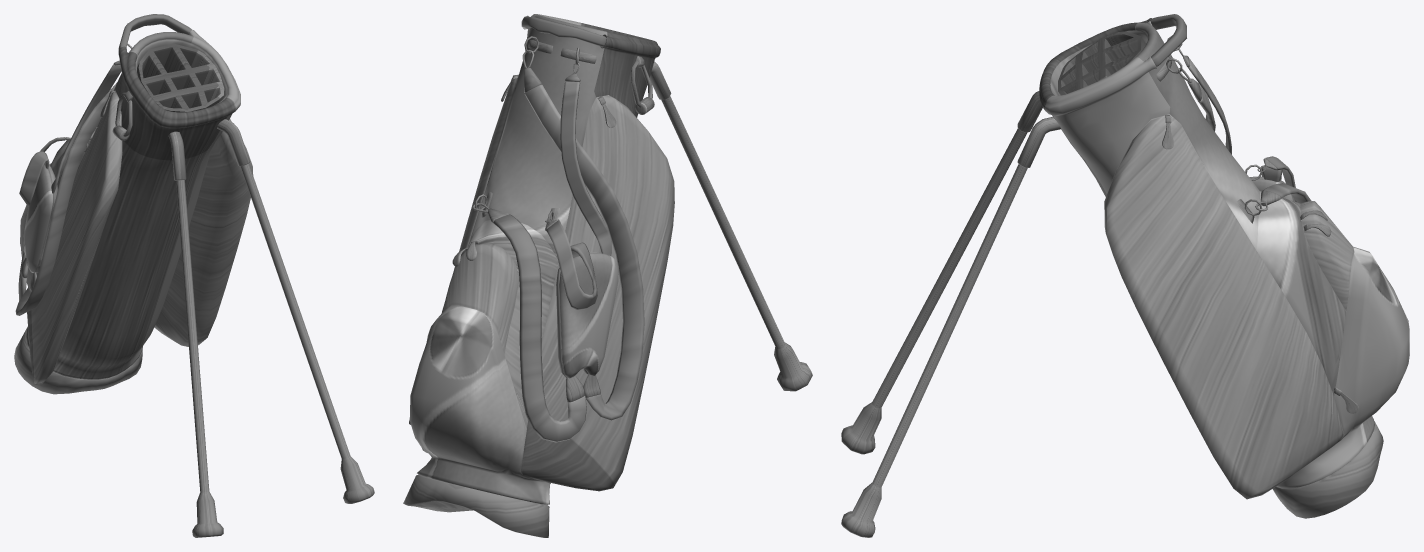
The model's file is bag.FBX.
The picture shows the model from 3 angles, left to right: view 1: azimuth 30°, elevation 25°; view 2: azimuth 150°, elevation 25°; view 3: azimuth 270°, elevation 25°; orthographic projection. The views are drawn at different scales.
Parts seen in each view (by area): view 1: bag; view 2: bag; view 3: bag.
Part boxes in pixels (x1,y1,x2,y2): bag: [14, 14, 374, 537]; bag: [403, 14, 812, 537]; bag: [841, 14, 1409, 537].
Bounding box in the file's own units: 50.39 × 105 × 115.
